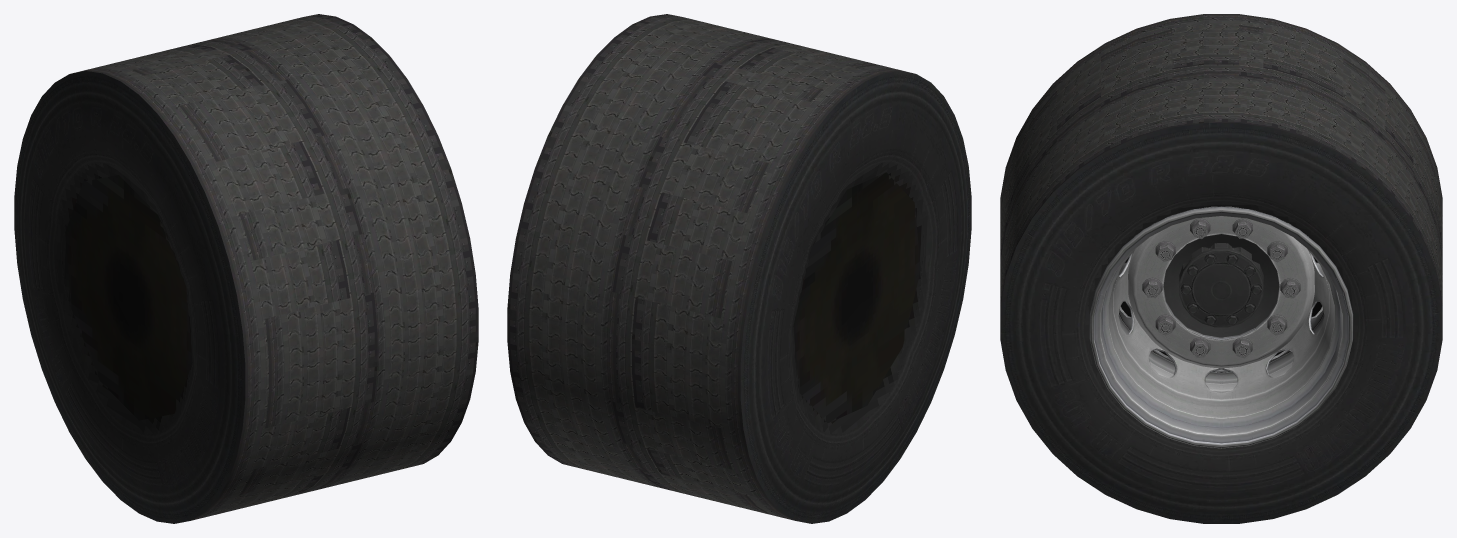
Rendered from wheel_fh16.glb.
3 renders of one model, left to right at view 1: azimuth 30°, elevation 25°; view 2: azimuth 150°, elevation 25°; view 3: azimuth 270°, elevation 25°, orthographic. The views are drawn at different scales.
Visible parts, largest first — view 1: WHEEL_DUAL, WHEEL_SINGLE; view 2: WHEEL_DUAL, WHEEL_SINGLE; view 3: WHEEL_DUAL, WHEEL_SINGLE.
Boxes of the visible parts, bbox=[...] form: WHEEL_DUAL: bbox=[14, 14, 478, 523]; WHEEL_SINGLE: bbox=[132, 40, 377, 514]; WHEEL_DUAL: bbox=[507, 14, 971, 523]; WHEEL_SINGLE: bbox=[612, 38, 889, 513]; WHEEL_DUAL: bbox=[1000, 14, 1442, 523]; WHEEL_SINGLE: bbox=[1000, 25, 1442, 393].
Size of the model in its own units: 0.6337 by 1 by 1.
Materials: 6 (6 with a texture image).
